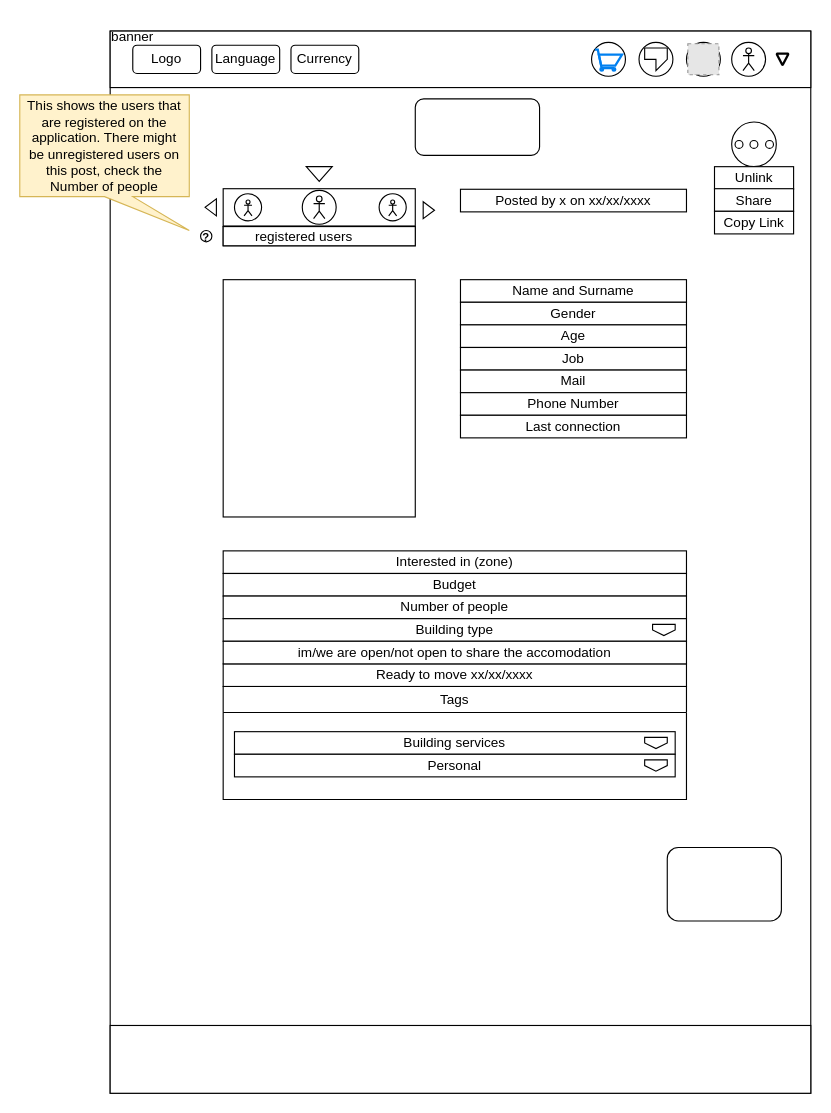
This 831x1113 diagram has some shape labels left out. Grey dashed boxes stand in for pictures. The centre of each missing label's shape, as x and y in pixels:
Check users that liked this post: point (723, 883)
footpage: point (460, 1058)
Linked people Images: point (318, 398)
You are linked to this post: point (477, 126)
